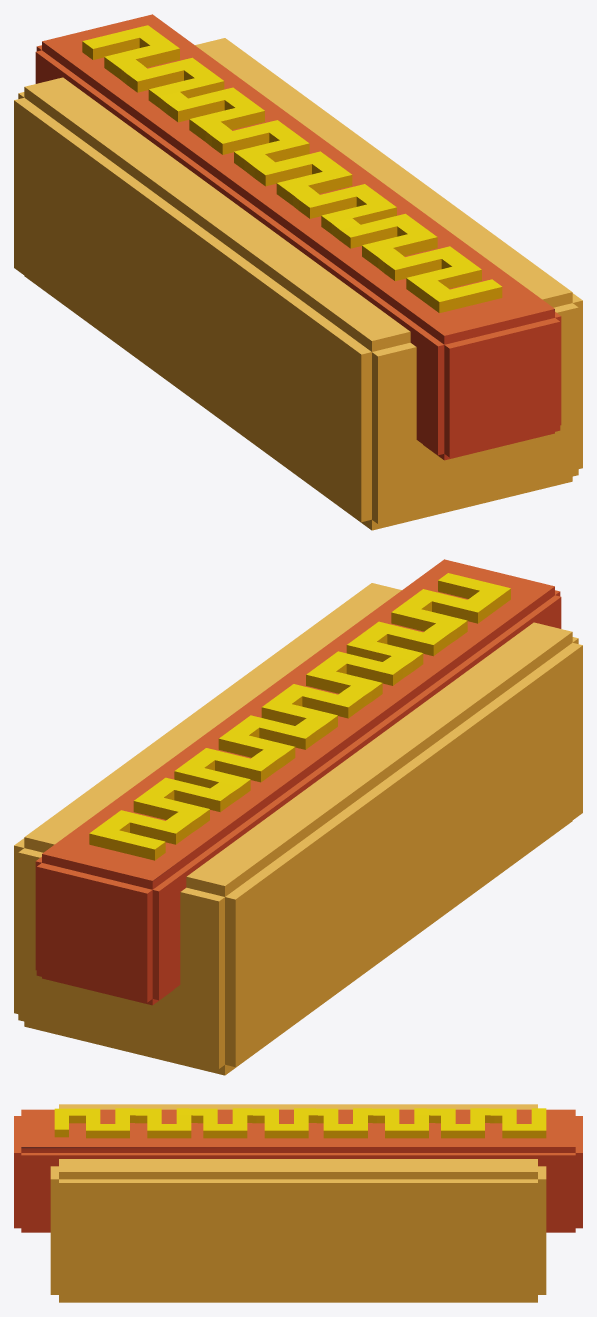
The model's file is hotdog.fbx.
The picture shows the model from 3 angles, top to bottom: view 1: azimuth 30°, elevation 25°; view 2: azimuth 150°, elevation 25°; view 3: azimuth 270°, elevation 25°; orthographic projection. The views are drawn at different scales.
Parts seen in each view (by area): view 1: Cube; view 2: Cube; view 3: Cube.
Boxes of the visible parts, <box> form: Cube: <box>14,14,582,530</box>; Cube: <box>14,559,582,1075</box>; Cube: <box>14,1104,582,1302</box>.
Size of the model in its own units: 255 by 236 by 822.
Materials: 1 (1 with a texture image).
